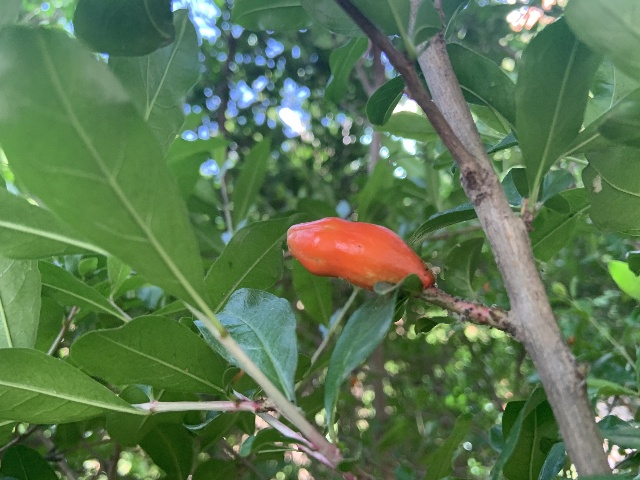bud: (284, 216, 431, 292)
